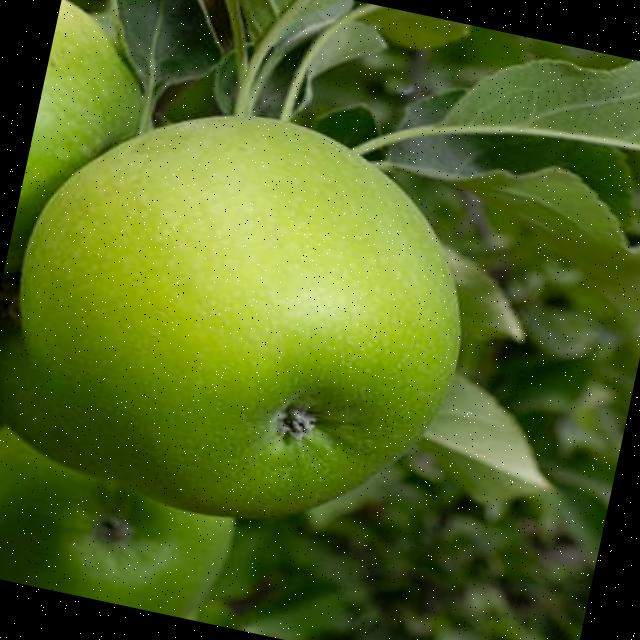Unripe: (0, 69, 499, 560)
